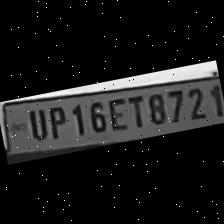1: (64, 99, 89, 137), (202, 80, 224, 118)
2: (180, 82, 208, 122)
6: (82, 96, 108, 134)
7: (161, 85, 188, 124)
8: (142, 88, 168, 127)
E: (103, 92, 130, 134)
P: (41, 101, 70, 141)
T: (122, 90, 148, 131)
U: (21, 104, 48, 142)
